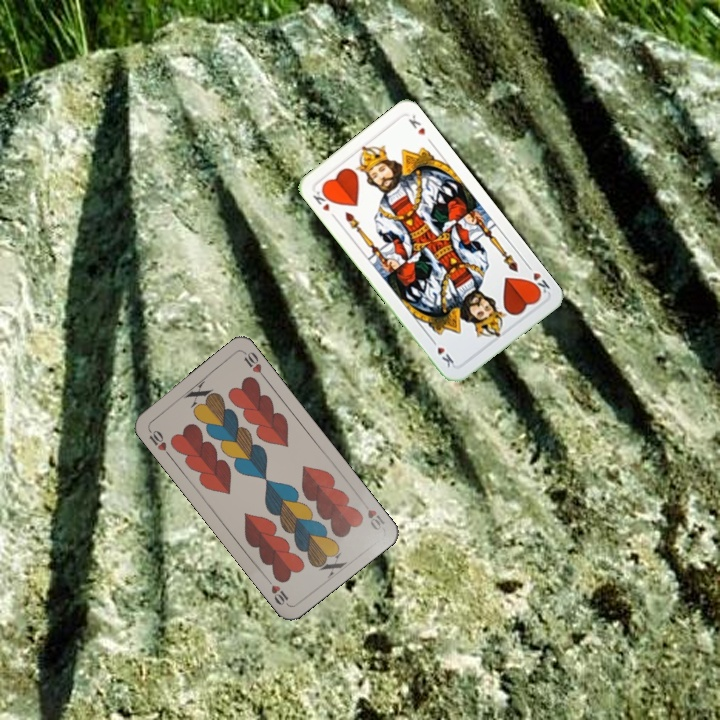H10: (357, 496, 388, 533), (144, 424, 173, 459)
HK: (522, 260, 552, 299), (309, 185, 339, 221)
